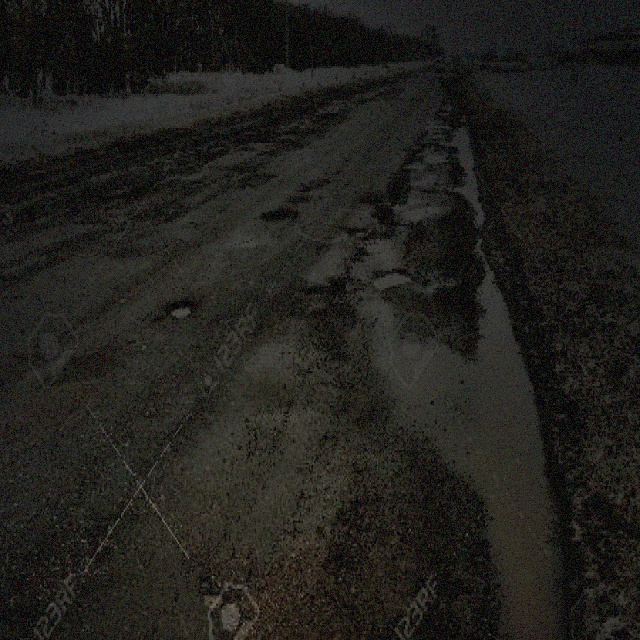pothole: (371, 267, 414, 290), (163, 297, 195, 320), (258, 205, 298, 222), (348, 224, 367, 237)
